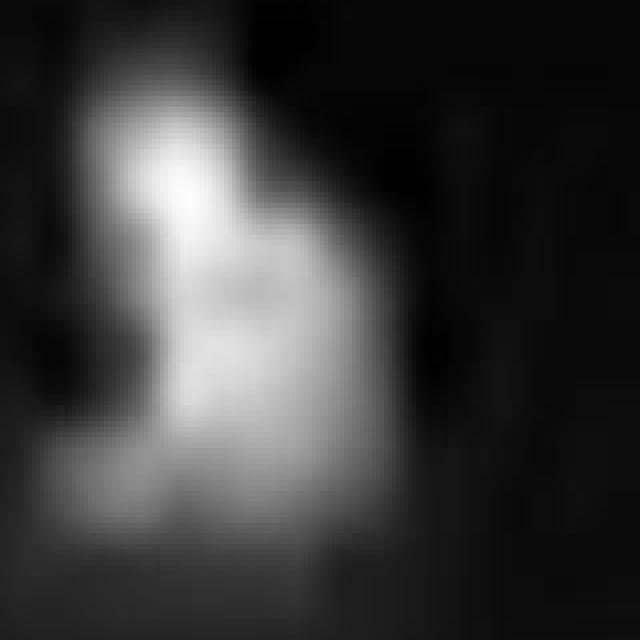person: (1, 17, 417, 593)
